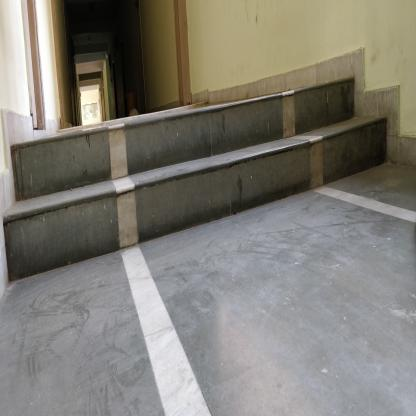stairs: (50, 79, 350, 247)
